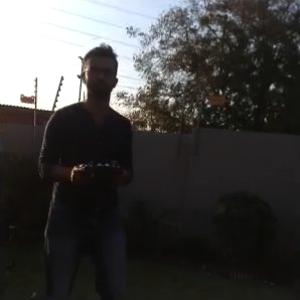follow: (32, 37, 140, 299)
